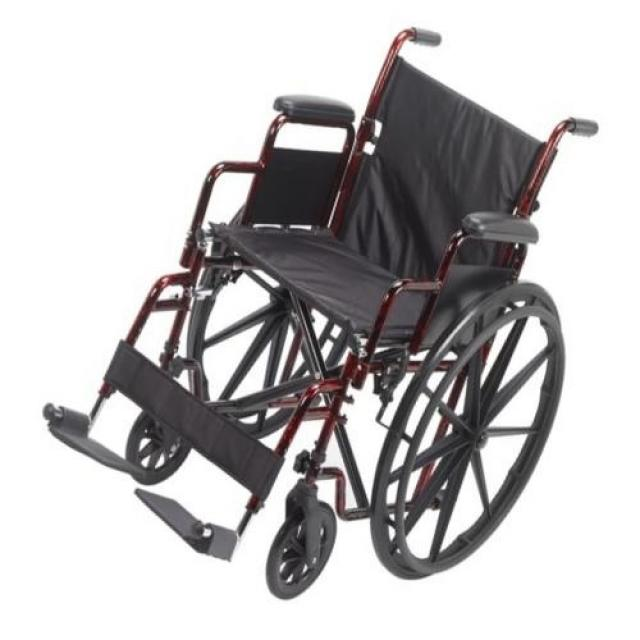wheelchair: (26, 20, 591, 606)
